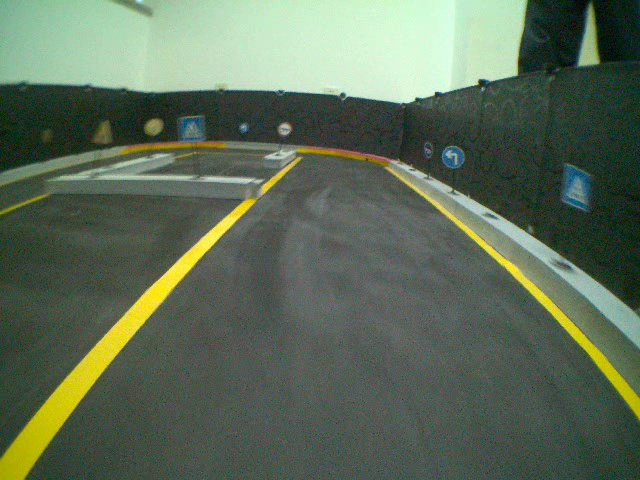Check: (276, 121, 293, 137)
crossing: (560, 161, 593, 211), (177, 115, 206, 144)
turn: (442, 145, 466, 170)
